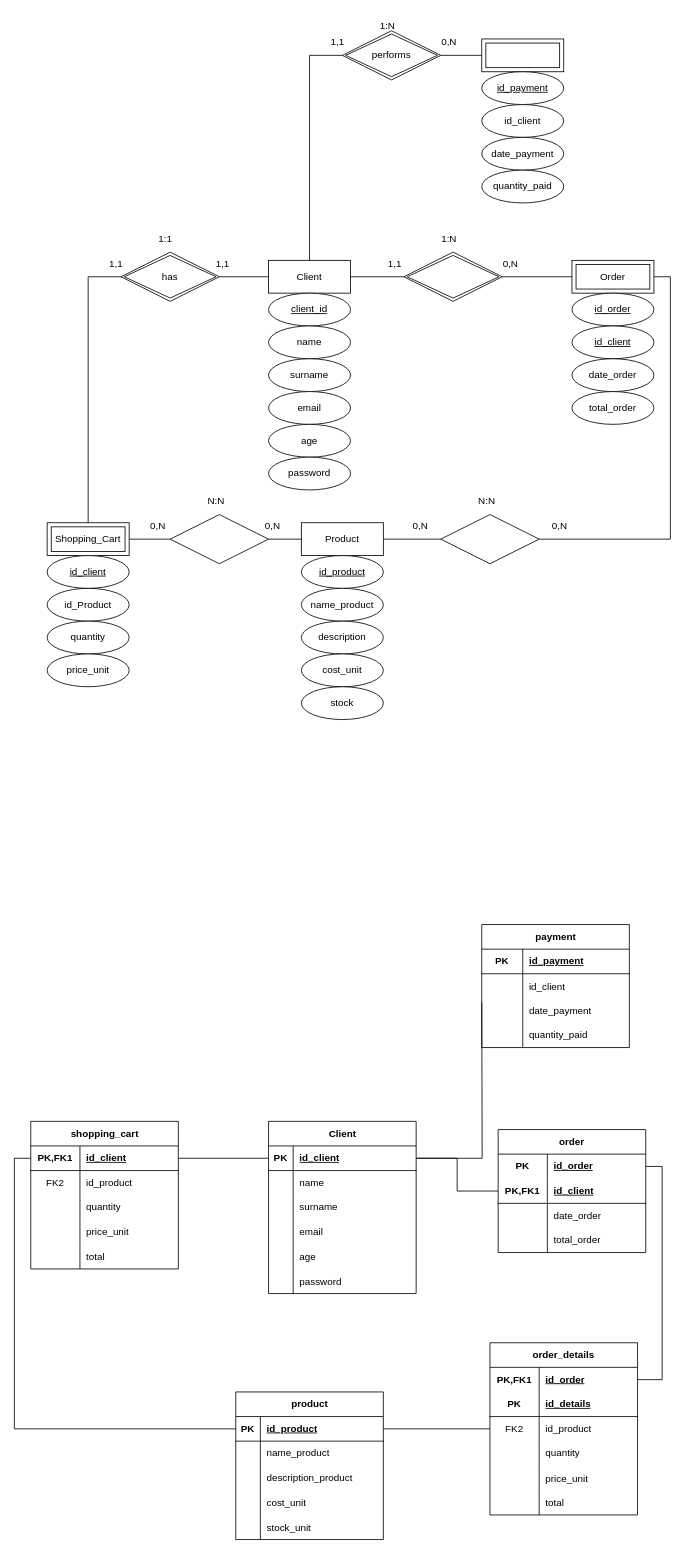
Image size: 686x1554. Some labels were removed from this diagram. The shapes that lost their labels are listed below. From the top down, each one's centre as x and y in pixels, then its label:
pixel 522 55: payments
pixel 452 276: Creates
pixel 219 539: contains
pixel 489 539: Belongs into
